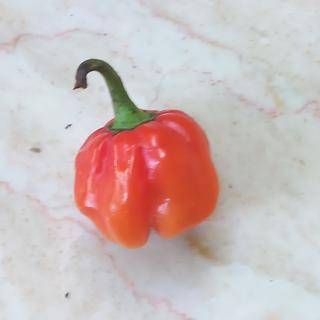Grade-B: (66, 104, 223, 252)
